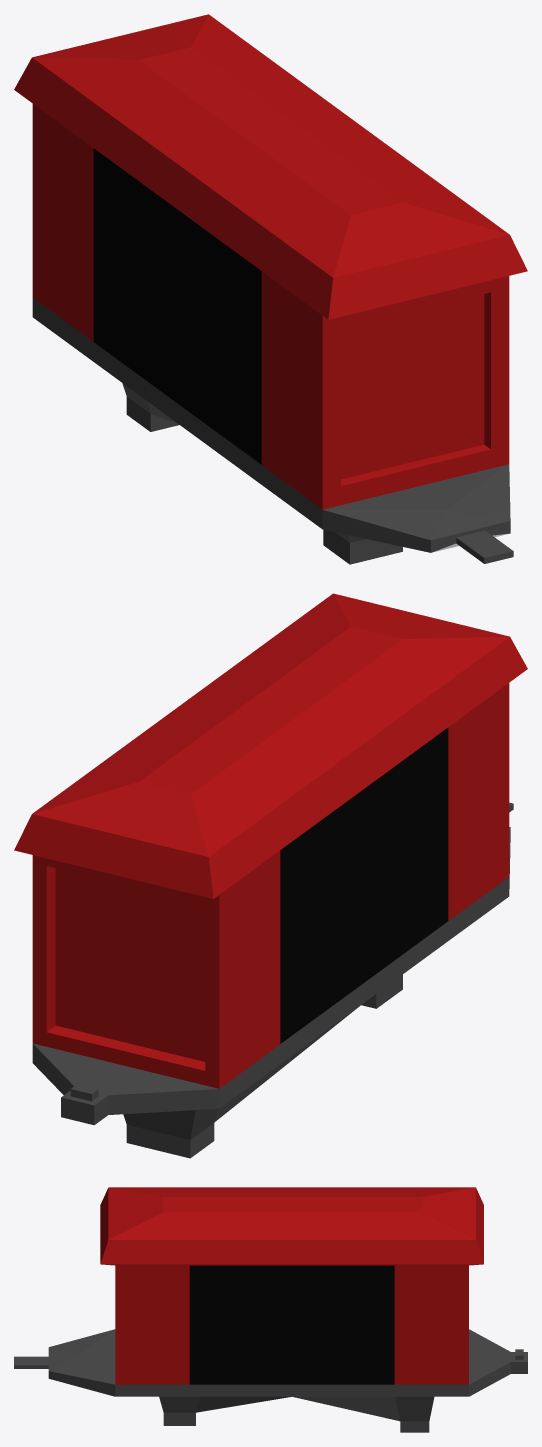
Rendered from Freight_Wagon.fbx.
The picture shows the model from 3 angles, top to bottom: view 1: azimuth 30°, elevation 25°; view 2: azimuth 150°, elevation 25°; view 3: azimuth 270°, elevation 25°; orthographic projection. The views are drawn at different scales.
Parts seen in each view (by area): view 1: Freight_Wagon; view 2: Freight_Wagon; view 3: Freight_Wagon.
Boxes of the visible parts, x1,y1,x2,y2 form: Freight_Wagon: (14,14,527,564); Freight_Wagon: (14,593,527,1158); Freight_Wagon: (14,1187,527,1432).
Bounding box in the file's own units: 176 × 302 × 644.
